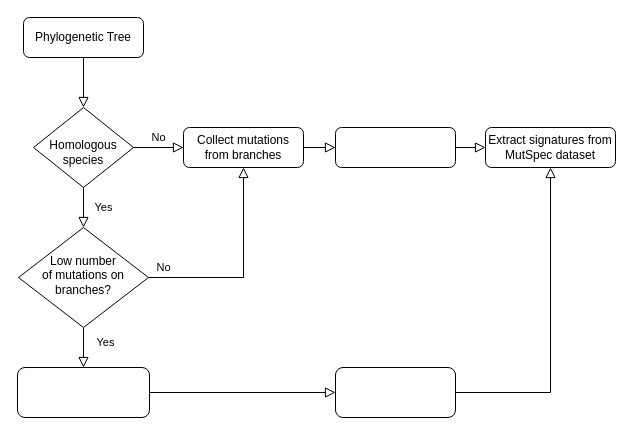
The diagram is 633 pixels wide and 435 high, and some of its shapes have lost their labels. The shapes that lost their labels are listed below. From the top down, each one's centre as x and y in pixels, then its label:
At pixel 395 147: "Calculate MutSpec on each branch".
At pixel 83 392: "Apply bootstraping for general MutSpec, but it could be useless".
At pixel 395 392: "Calculate MutSpec on bootstraped pseudosamples".
